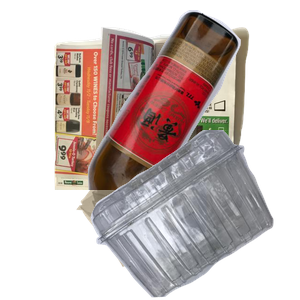glass: (85, 10, 300, 190)
paper: (51, 24, 291, 204)
plastic: (88, 130, 300, 300)
trash: (74, 148, 273, 300)
